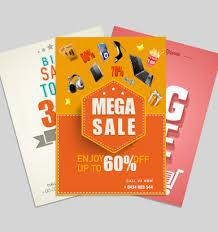Printing industry: (3, 7, 218, 232)
